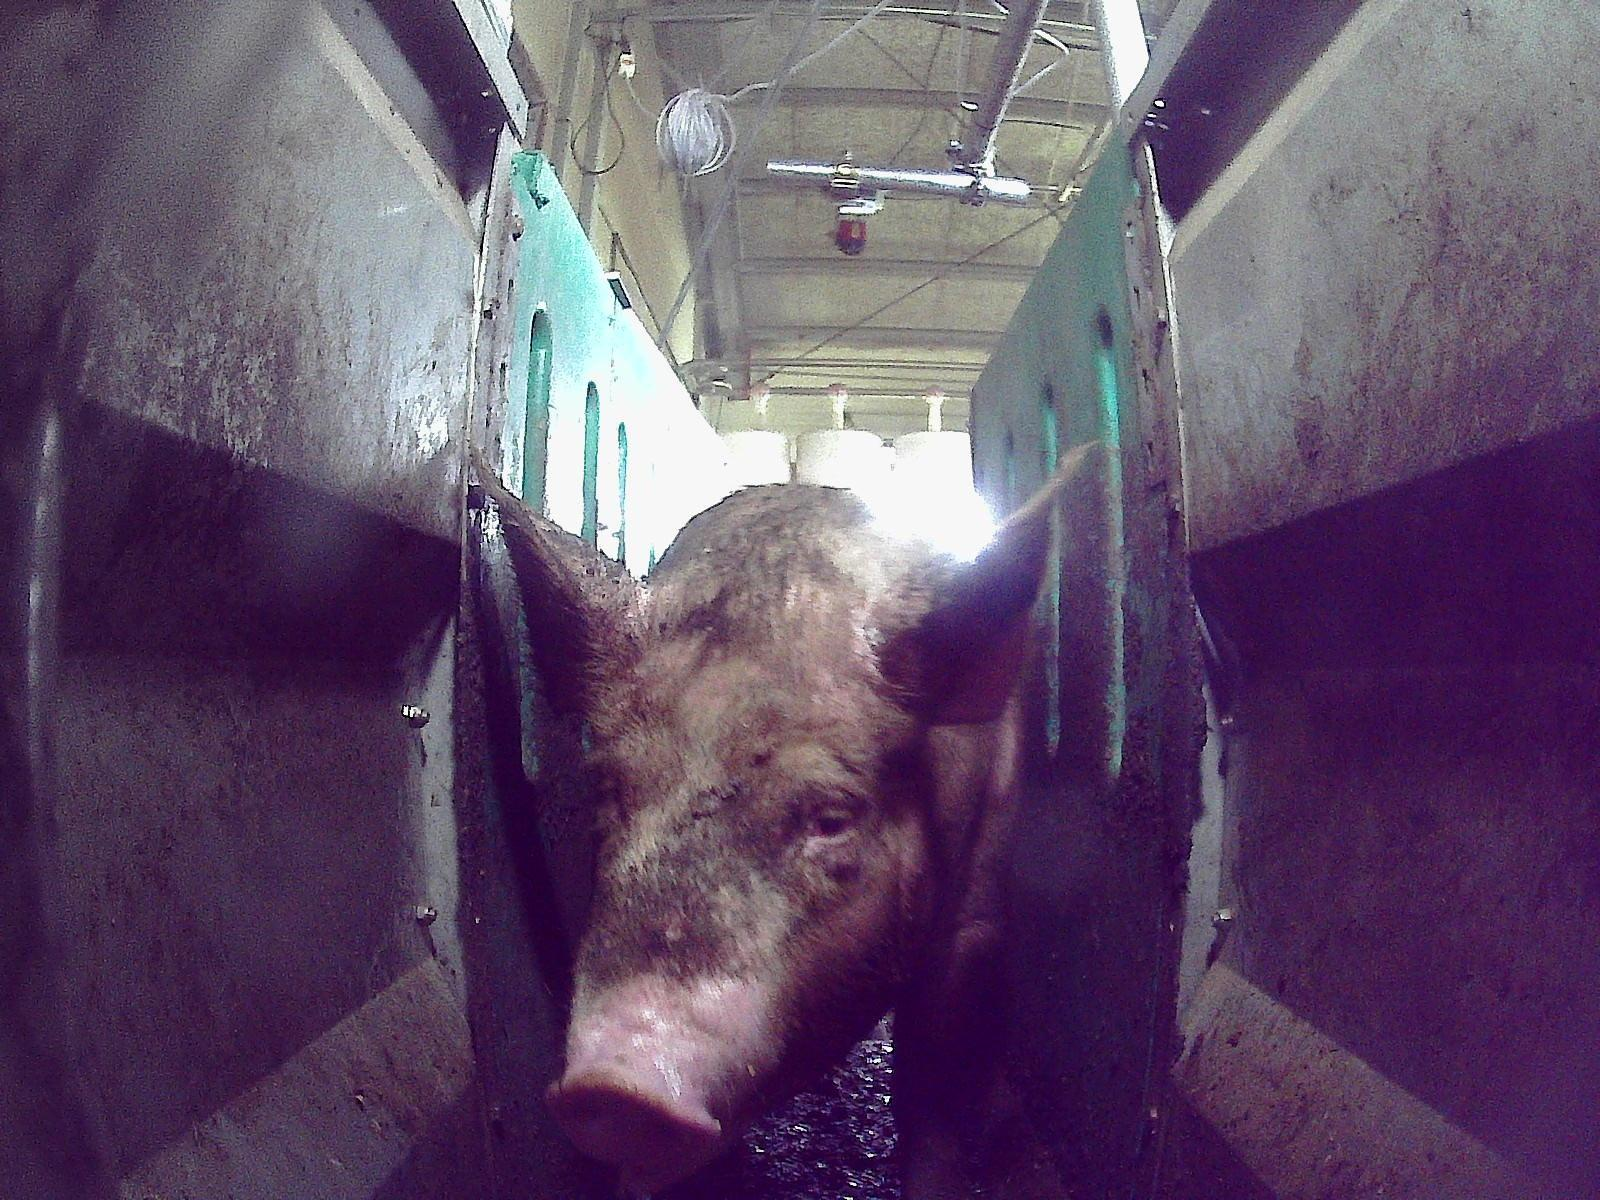Face: (548, 599, 921, 1181)
